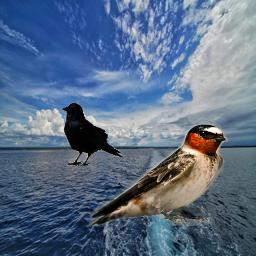Crow: (60, 102, 124, 166)
Swallow: (88, 122, 228, 226)
